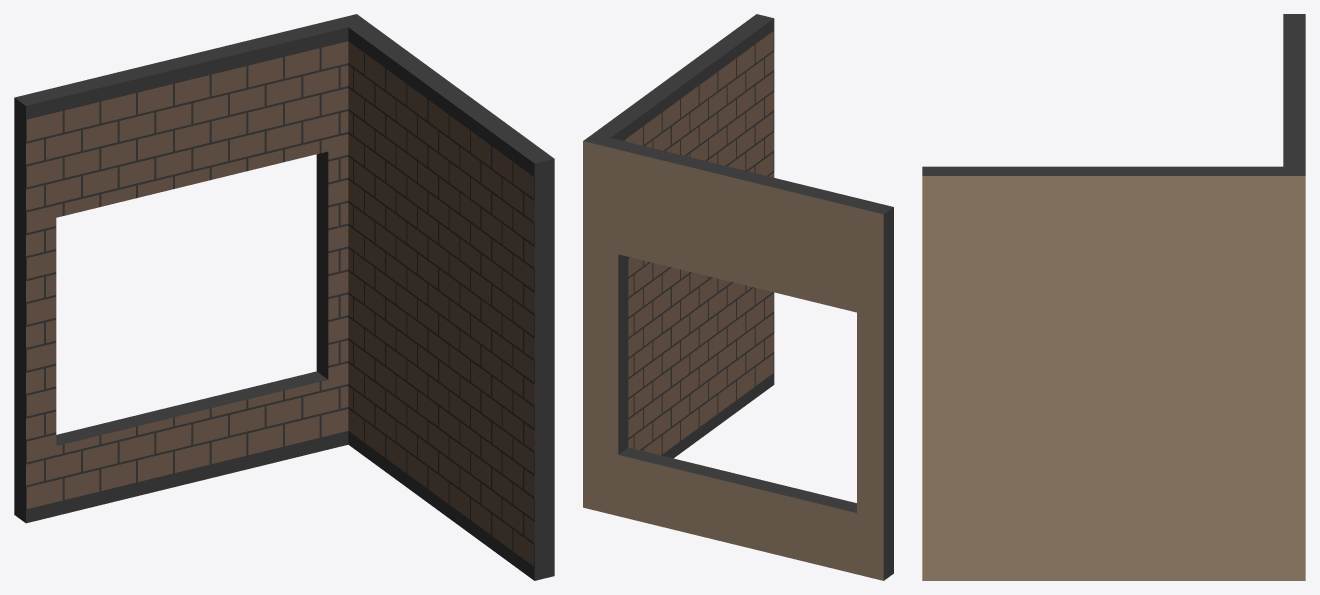
The model's file is Wall3_C10_13.fbx.
3 renders of one model, left to right at view 1: azimuth 30°, elevation 25°; view 2: azimuth 150°, elevation 25°; view 3: azimuth 270°, elevation 25°, orthographic. The views are drawn at different scales.
Parts seen in each view (by area): view 1: Wall3_C10_13; view 2: Wall3_C10_13; view 3: Wall3_C10_13.
Part boxes in pixels (left/top/right/bottom): Wall3_C10_13: left=14, top=14, right=554, bottom=580; Wall3_C10_13: left=583, top=14, right=893, bottom=580; Wall3_C10_13: left=922, top=14, right=1305, bottom=580.
Bounding box in the file's own units: 258 × 300 × 258.
